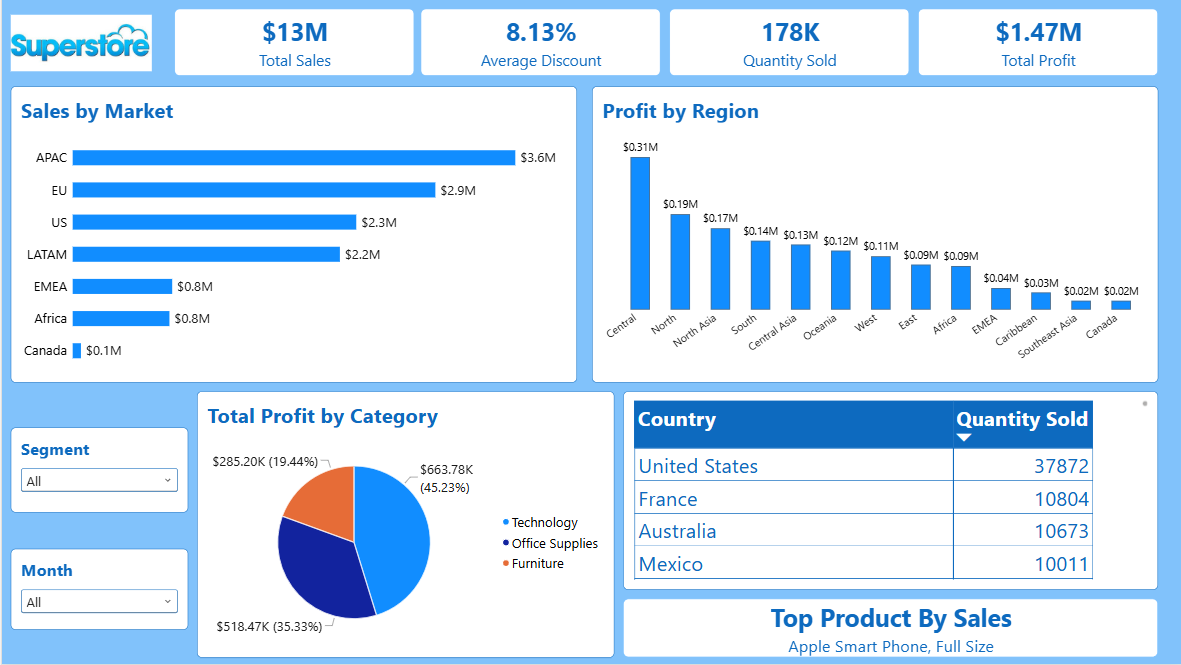

This screenshot's page, from the dashboard's own definition file:
{"tool":"powerbi","page":{"name":"Page 1","canvas":[1920,1080],"ordinal":0},"visuals":[{"type":"cardVisual","fields":{"Data":["superstore_bersih.Total Sales"]},"box":[280.7,14.2,390.6,109.9],"z":0},{"type":"cardVisual","fields":{"Data":["superstore_bersih.Average Discount"]},"box":[681.5,14.2,390.6,109.9],"z":1000},{"type":"cardVisual","fields":{"Data":["superstore_bersih.Quantity Sold"]},"box":[1086.3,14.2,390.6,109.9],"z":2000},{"type":"cardVisual","fields":{"Data":["superstore_bersih.Total Profit"]},"box":[1491.2,14.2,390.6,109.9],"z":3000},{"type":"clusteredBarChart","title":"Sales by Market","fields":{"Category":["superstore_bersih.Market"],"Y":["superstore_bersih.Total Sales"]},"box":[14.2,140.4,921.6,482.1],"z":4000},{"type":"clusteredColumnChart","title":"Profit by Region","fields":{"Category":["superstore_bersih.Region"],"Y":["superstore_bersih.Total Profit"]},"box":[960.2,140.4,921.6,482.1],"z":5000},{"type":"pieChart","title":"Total Profit by Category","fields":{"Category":["superstore_bersih.Category"],"Y":["superstore_bersih.Total Profit"]},"box":[317.4,636.7,679.5,433.3],"z":6000},{"type":"listSlicer","fields":{"Values":["DimTanggal.Month"]},"box":[14.2,893.1,288.9,132.2],"z":7000},{"type":"listSlicer","fields":{"Values":["superstore_bersih.Segment"]},"box":[14.2,695.7,288.9,138.3],"z":8000},{"type":"tableEx","fields":{"Values":["superstore_bersih.Country","superstore_bersih.Quantity Sold"]},"box":[1011.1,636.7,870.7,323.5],"z":9000},{"type":"image","box":[14.2,0,229.9,140.4],"z":10000},{"type":"cardVisual","fields":{"Data":["superstore_bersih.Top Product By Sales"]},"box":[1011.1,974.4,870.7,95.6],"z":15000}]}

Visuals, with their boxes in screenshot pixels (x1, y1, x2, y2), scaled from the page's 1920x1080 canvas onto the 1181x665 screenshot:
cardVisual - superstore_bersih.Total Sales: region(173, 9, 413, 76)
cardVisual - superstore_bersih.Average Discount: region(419, 9, 659, 76)
cardVisual - superstore_bersih.Quantity Sold: region(668, 9, 908, 76)
cardVisual - superstore_bersih.Total Profit: region(917, 9, 1158, 76)
"Sales by Market" clusteredBarChart: region(9, 86, 576, 383)
"Profit by Region" clusteredColumnChart: region(591, 86, 1158, 383)
"Total Profit by Category" pieChart: region(195, 392, 613, 659)
listSlicer - DimTanggal.Month: region(9, 550, 186, 631)
listSlicer - superstore_bersih.Segment: region(9, 428, 186, 514)
tableEx - superstore_bersih.Country x superstore_bersih.Quantity Sold: region(622, 392, 1158, 591)
image: region(9, 0, 150, 86)
cardVisual - superstore_bersih.Top Product By Sales: region(622, 600, 1158, 659)
